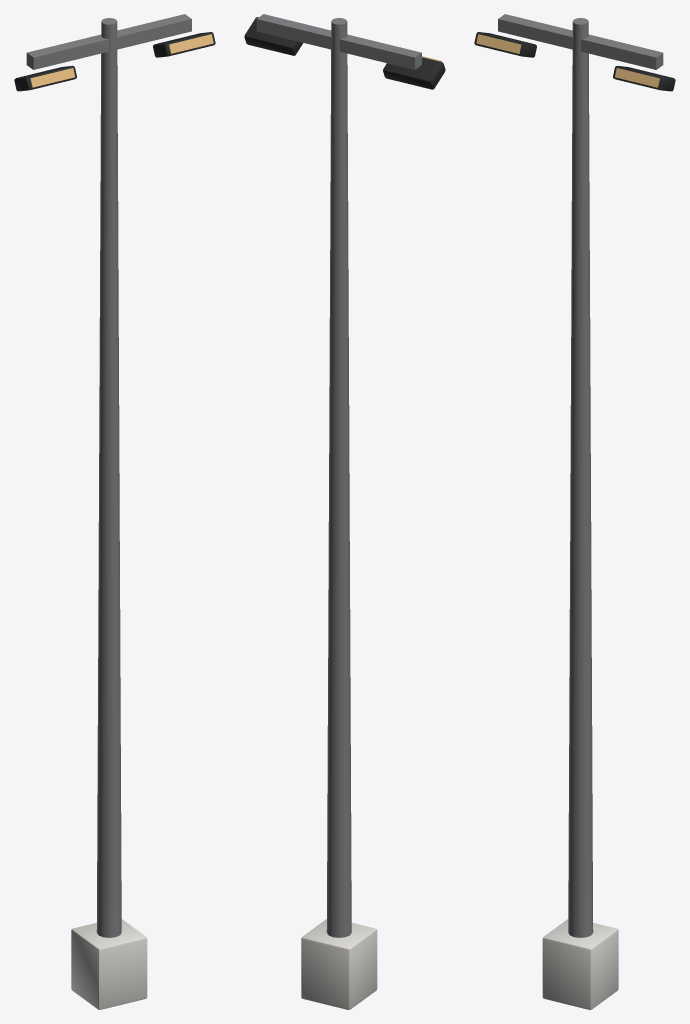
File: lamp-post.glb
The picture shows the model from 3 angles, left to right: view 1: azimuth 30°, elevation 25°; view 2: azimuth 150°, elevation 25°; view 3: azimuth 330°, elevation 25°; orthographic projection.
Visible parts, largest first — view 1: Piece_lod0; view 2: Piece_lod0; view 3: Piece_lod0.
Part boxes in pixels (x1=…): Piece_lod0: x1=14, y1=14, x2=215, y2=1009; Piece_lod0: x1=244, y1=14, x2=445, y2=1009; Piece_lod0: x1=474, y1=14, x2=675, y2=1009.
Size of what is drawn, in the model's own units: 1.9 by 9.4 by 0.5.
